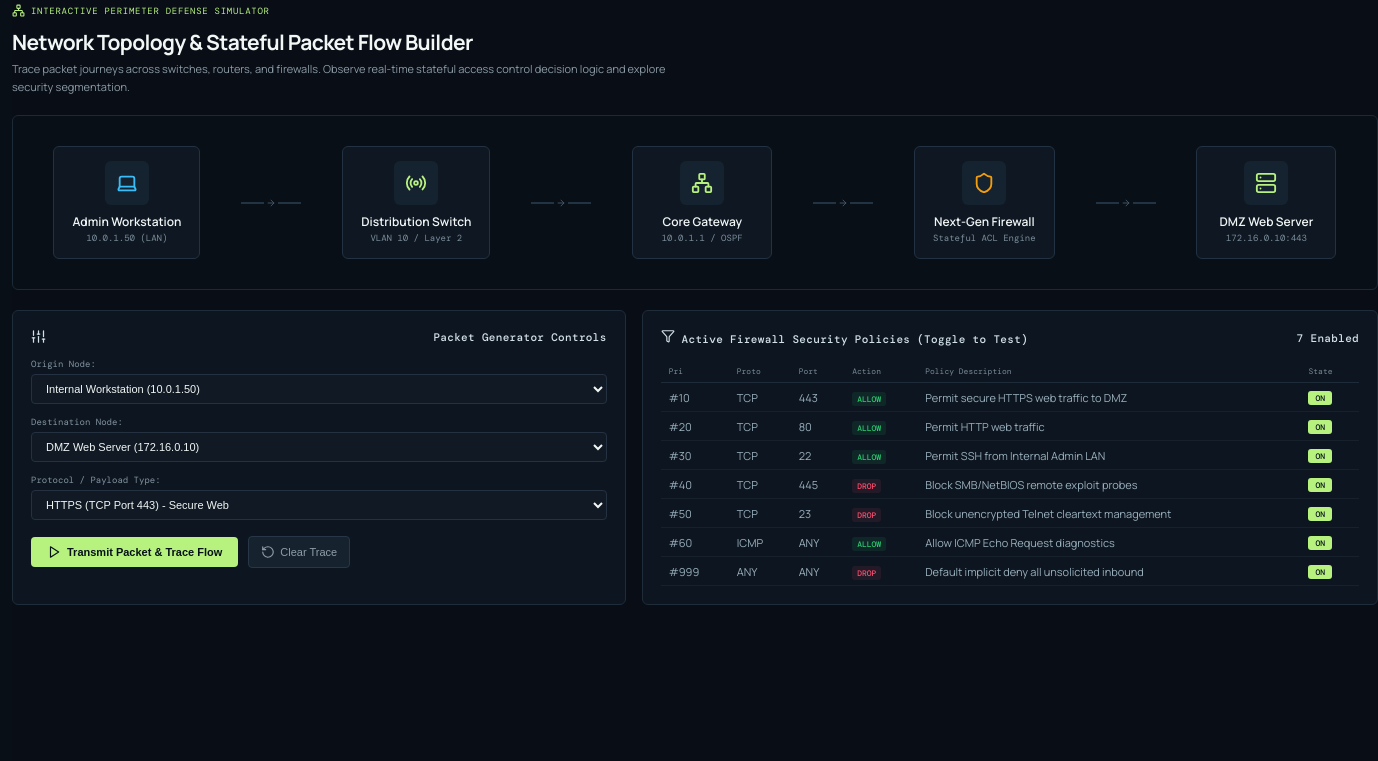
Test case: Phase 7: Interactive Visualizers & Learning Experiences › NetworkTopologyBuilder executes firewall packet trace and evaluates ACL rules
Check: the text "Admin Workstation" is shown, box [72, 213, 182, 230]
Check: the text "Next-Gen Firewall" is shown, box [934, 213, 1035, 230]
Step 1. Click the button "Transmit Packet & Trace Flow" → {"x": 135, "y": 552}, box [31, 537, 238, 567]
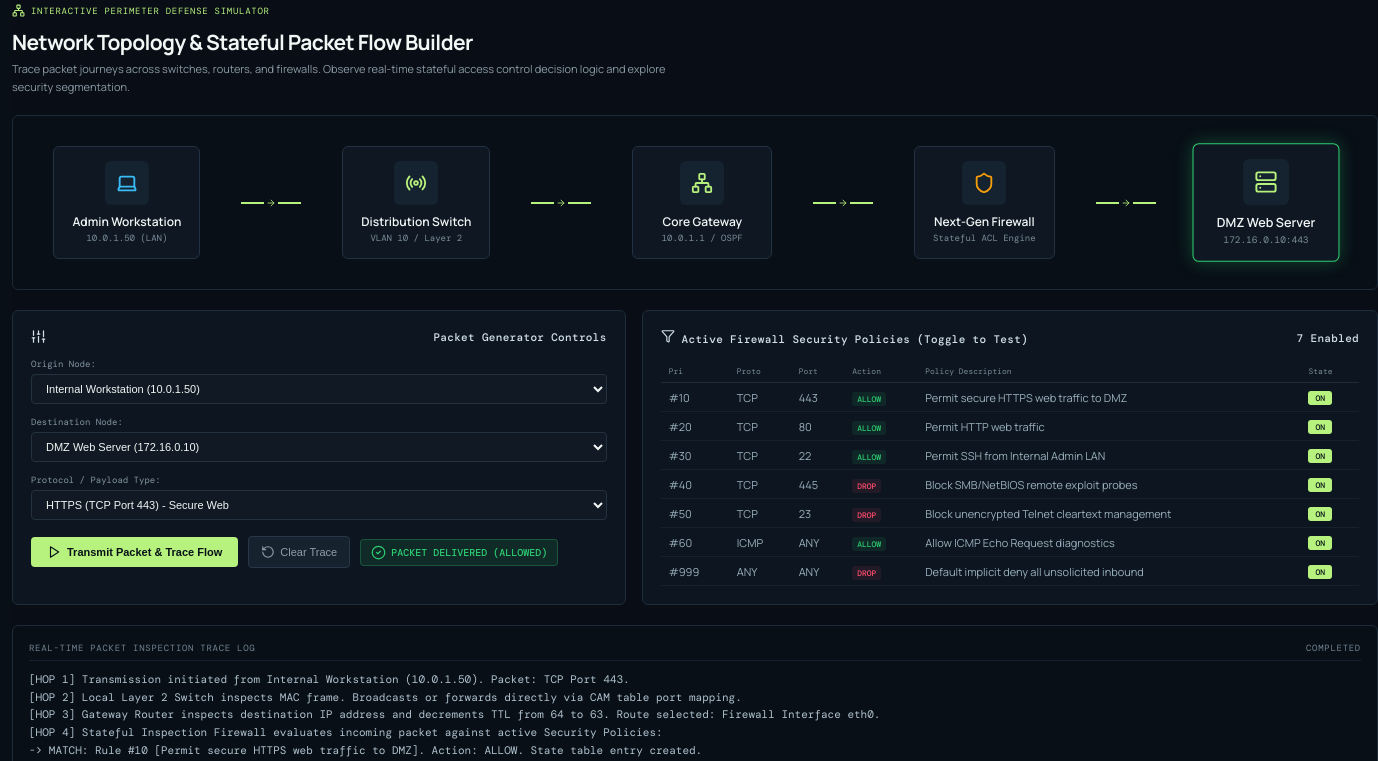
Check: the text "PACKET DELIVERED (ALLOWED)" is shown, box [360, 539, 558, 566]
# Change traffic type to SMB (blocked by default)
Step 2. Select "SMB (TCP Port 445) - File Sharing / EternalBlue" in the dropdown showing "HTTPS" below "Protocol / Payload Type:" → {"x": 319, "y": 505}, box [31, 490, 607, 520]
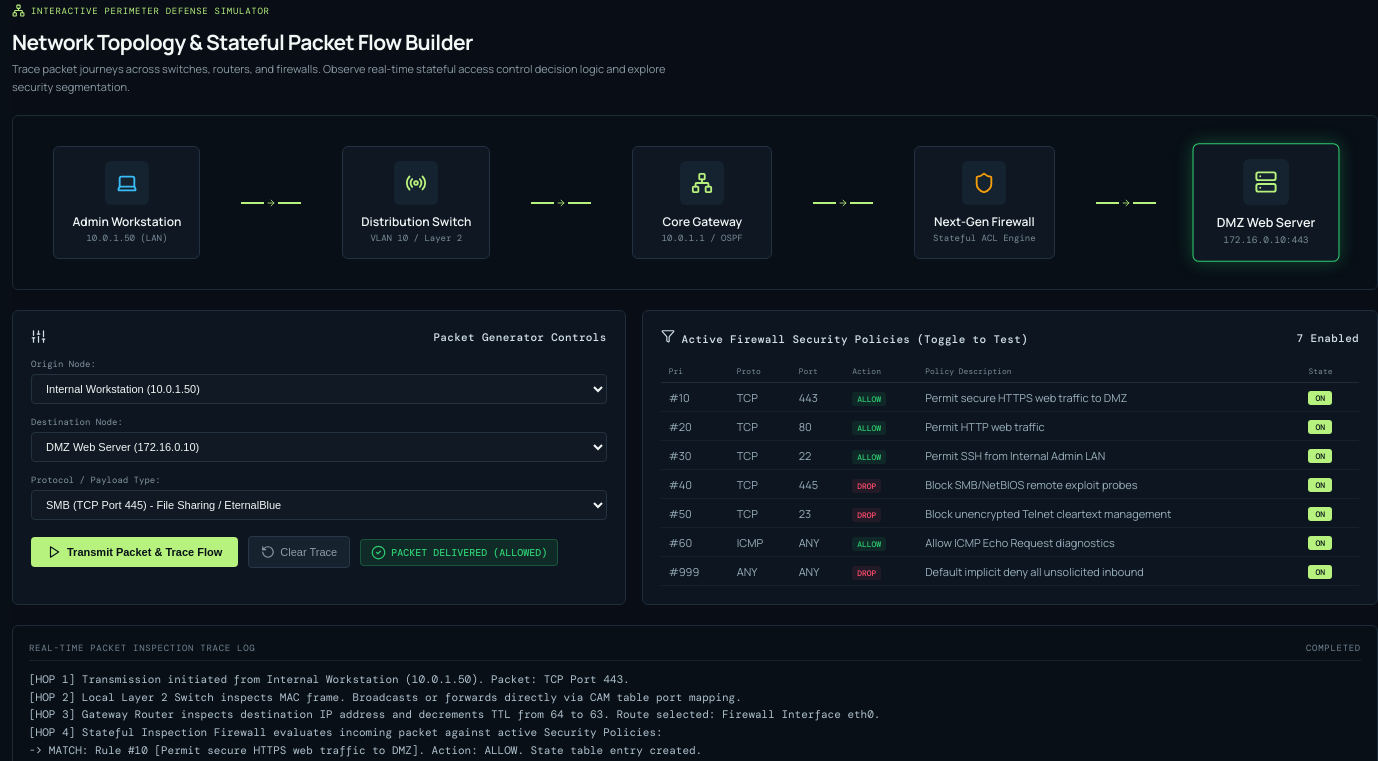
Step 3. Click the button "Transmit Packet & Trace Flow" → {"x": 135, "y": 552}, box [31, 537, 238, 567]
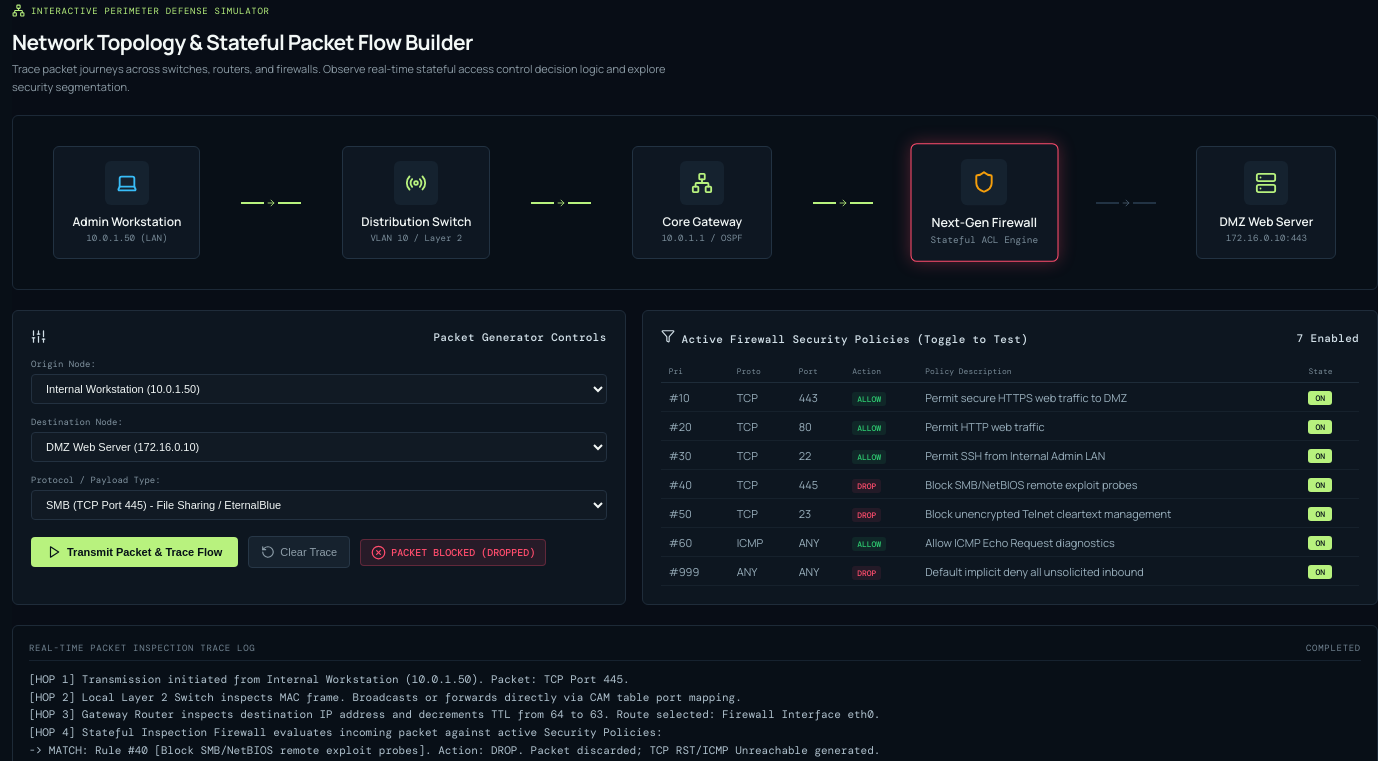
Check: the text "PACKET BLOCKED (DROPPED)" is shown, box [360, 539, 546, 566]
